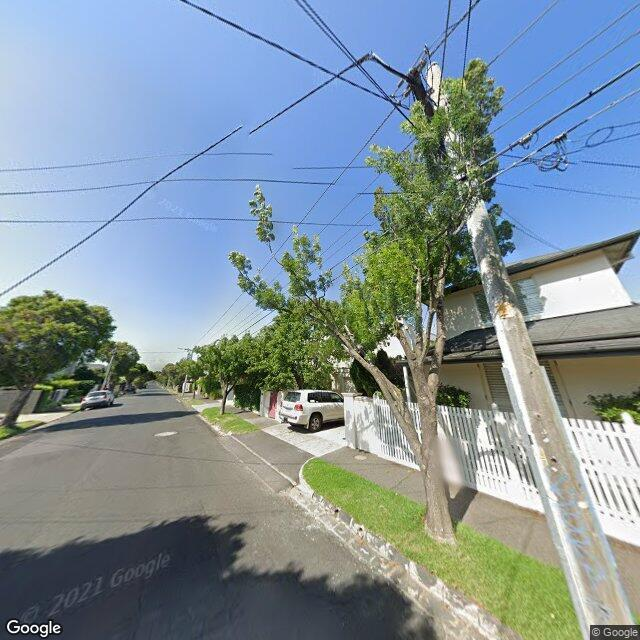crossarm: (406, 68, 446, 160)
timber-pole: (426, 62, 638, 640)
